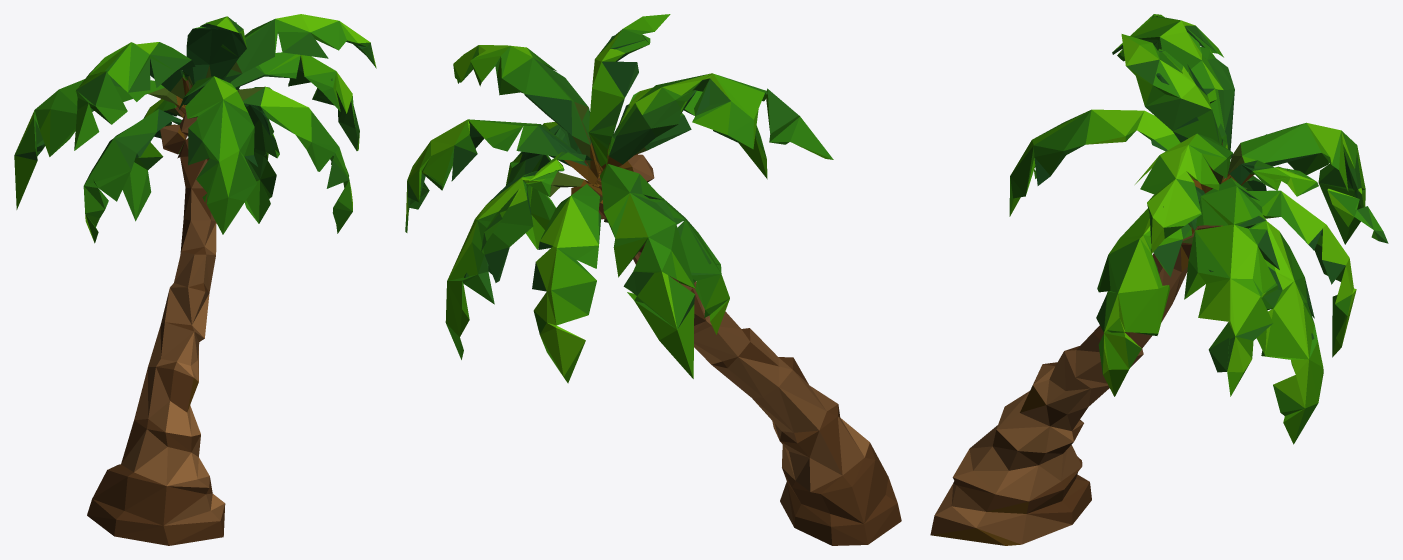
The model's file is palm-b.glb.
3 views of the same model, side by side, from view 1: azimuth 30°, elevation 25°; view 2: azimuth 150°, elevation 25°; view 3: azimuth 270°, elevation 25° (orthographic). The views are drawn at different scales.
Parts seen in each view (by area): view 1: palm-b; view 2: palm-b; view 3: palm-b.
Boxes of the visible parts, x1=… form: palm-b: x1=14, y1=14, x2=376, y2=545; palm-b: x1=405, y1=14, x2=901, y2=545; palm-b: x1=930, y1=14, x2=1388, y2=545.
Bounding box in the file's own units: 6.04 × 7.49 × 5.72.
